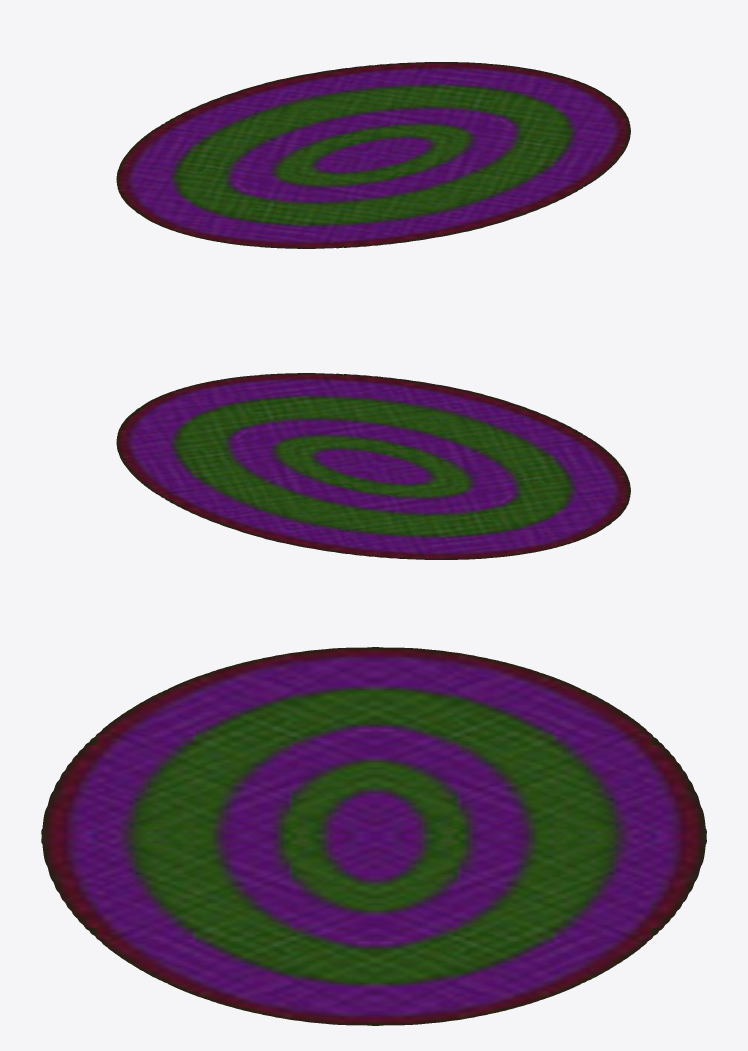
Rendered from rugA.glb.
3 views of the same model, one above another, from view 1: azimuth 30°, elevation 25°; view 2: azimuth 150°, elevation 25°; view 3: azimuth 270°, elevation 25° (orthographic). The views are drawn at different scales.
Parts seen in each view (by area): view 1: pPlane3, pPlane4, pPlane5, pPlane1; view 2: pPlane4, pPlane3, pPlane1, pPlane5; view 3: pPlane3, pPlane4, pPlane1, pPlane5.
Part boxes in pixels (left/top/right/bottom): pPlane3: left=137, top=155, right=474, bottom=248; pPlane4: left=374, top=97, right=630, bottom=229; pPlane5: left=273, top=62, right=609, bottom=154; pPlane1: left=116, top=81, right=373, bottom=212; pPlane4: left=137, top=373, right=474, bottom=466; pPlane3: left=374, top=392, right=630, bottom=524; pPlane1: left=273, top=467, right=609, bottom=559; pPlane5: left=116, top=409, right=373, bottom=540; pPlane3: left=41, top=647, right=375, bottom=836; pPlane4: left=41, top=836, right=375, bottom=1025; pPlane1: left=375, top=647, right=706, bottom=836; pPlane5: left=375, top=836, right=706, bottom=1025.
Bounding box in the file's own units: 4.14 × 0 × 3.14.
1 material, 1 textured.
